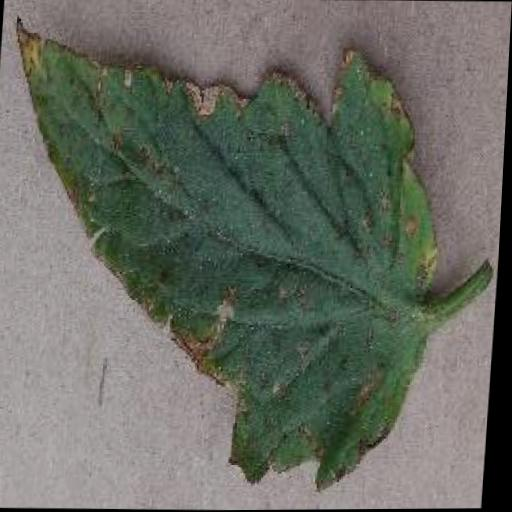Bacterial Spot: (0, 8, 464, 505)
